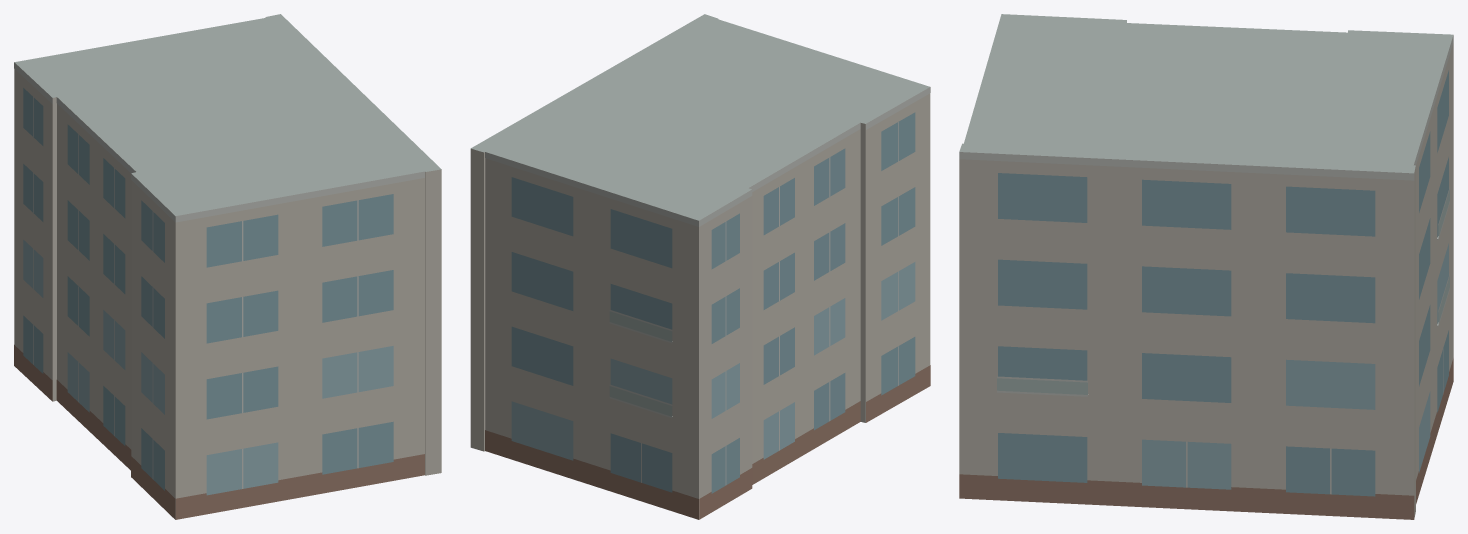
Rendered from survey-upis-33038909.glb.
3 views of the same model, side by side, from view 1: azimuth 30°, elevation 25°; view 2: azimuth 150°, elevation 25°; view 3: azimuth 270°, elevation 25° (orthographic). The views are drawn at different scales.
Visible parts, largest first — view 1: survey-upis-33038909.tmp; view 2: survey-upis-33038909.tmp; view 3: survey-upis-33038909.tmp.
Boxes of the visible parts, x1,y1,x2,y2 form: survey-upis-33038909.tmp: (14,14,441,519); survey-upis-33038909.tmp: (470,14,930,519); survey-upis-33038909.tmp: (959,14,1453,519).
Size of the model in its own units: 11.5 by 11.65 by 15.07.
